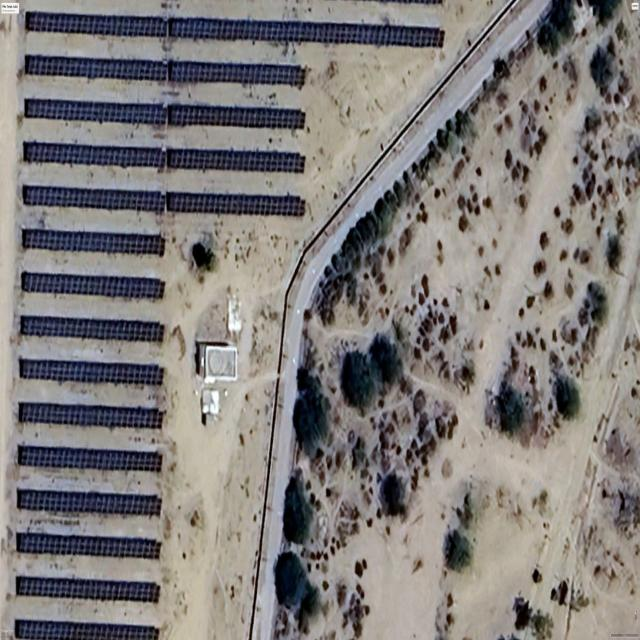Solar Panels: (25, 11, 445, 48), (24, 54, 307, 88), (22, 141, 306, 174), (24, 98, 306, 129), (21, 228, 165, 257), (17, 488, 162, 516), (18, 445, 163, 473), (19, 358, 164, 386), (20, 315, 164, 343), (18, 402, 165, 429), (16, 576, 160, 603), (21, 272, 165, 299), (22, 185, 164, 212), (17, 533, 161, 559), (167, 192, 305, 216), (14, 619, 159, 640)
